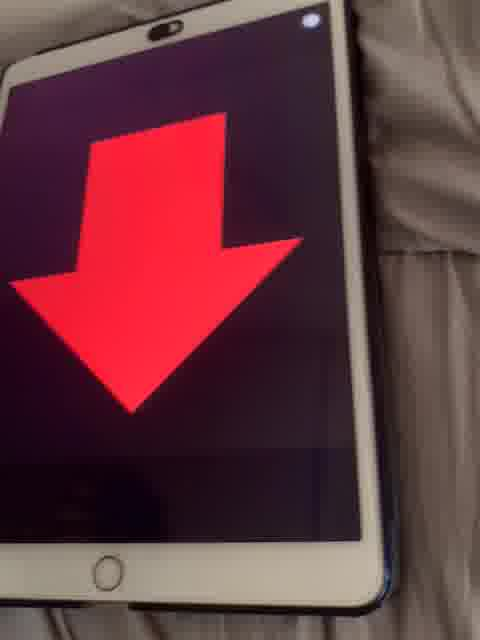down: (9, 102, 306, 427)
